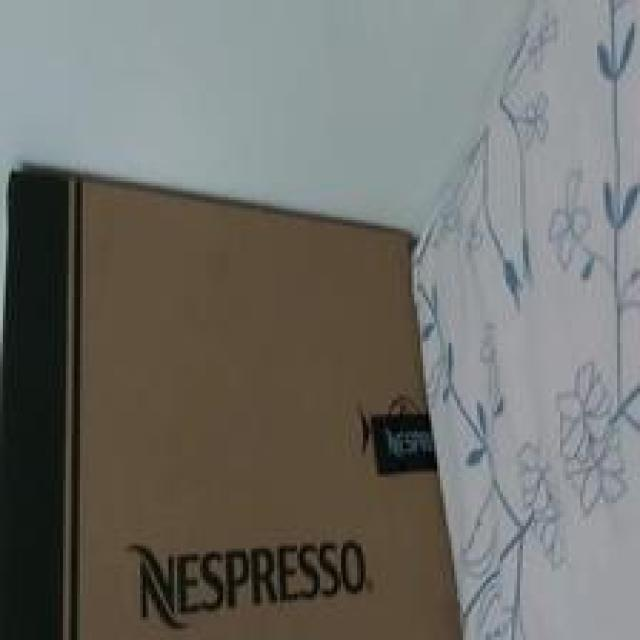Cardboard: (2, 169, 467, 639)
